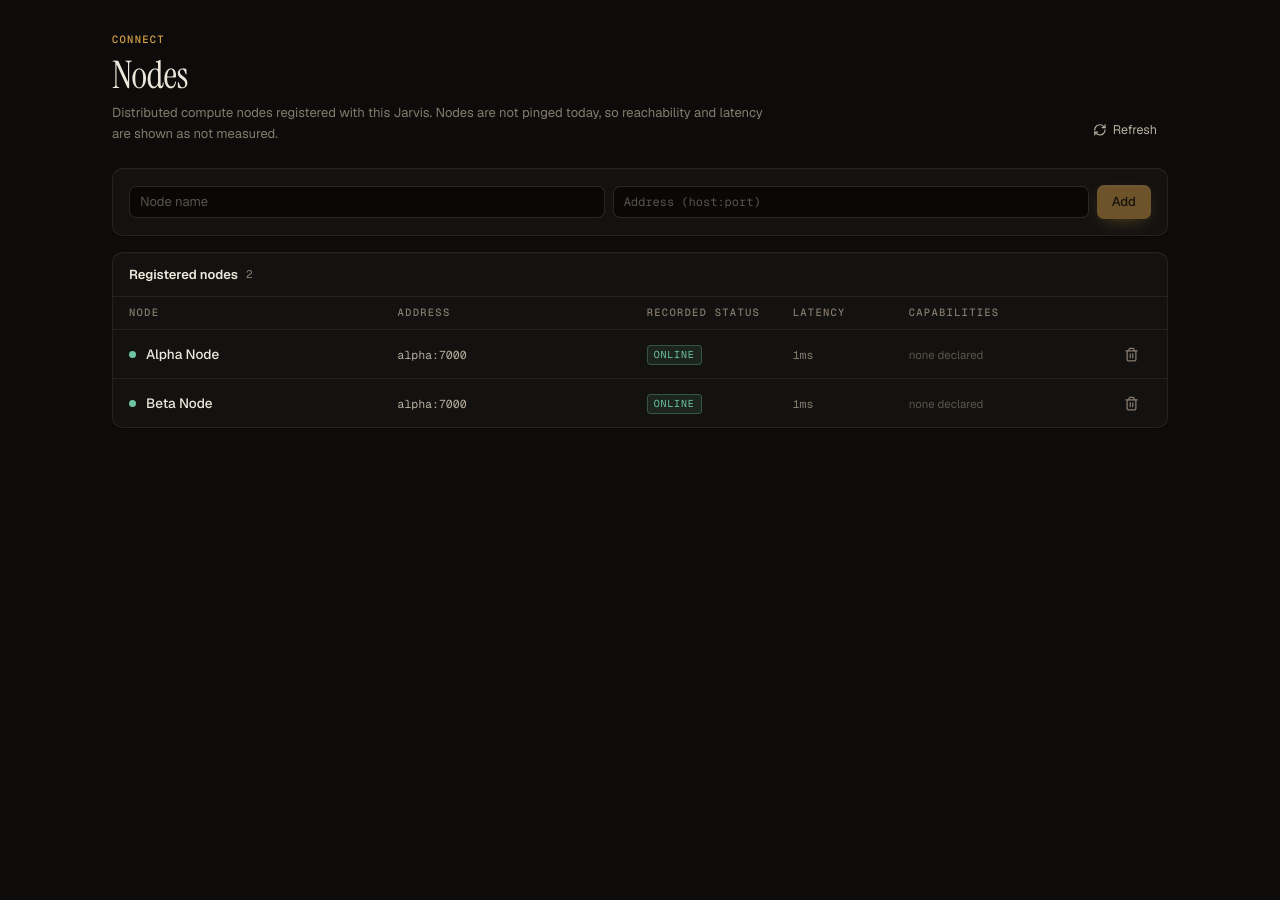
it: NodesPage removal coordination › holds confirmation, blocks repeated confirmation, and keeps other ids usable
Expected: the text "Alpha Node" is shown, [146,344,219,364]
Click the button named "Remove" in the row of "Alpha Node" at [1131, 354], box [1119,342,1143,366]
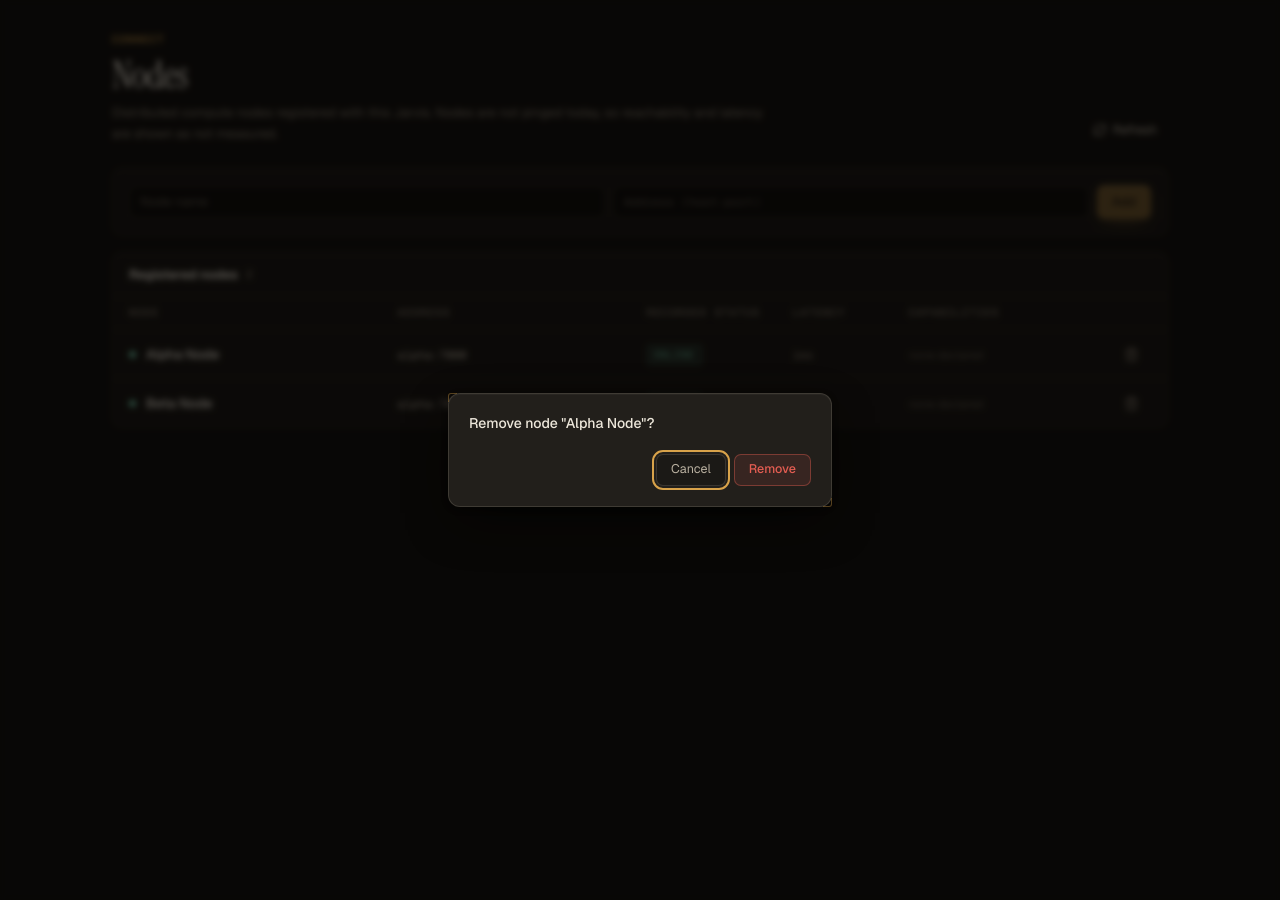
Click the button "Remove" at [772, 470], box [734,454,811,486]
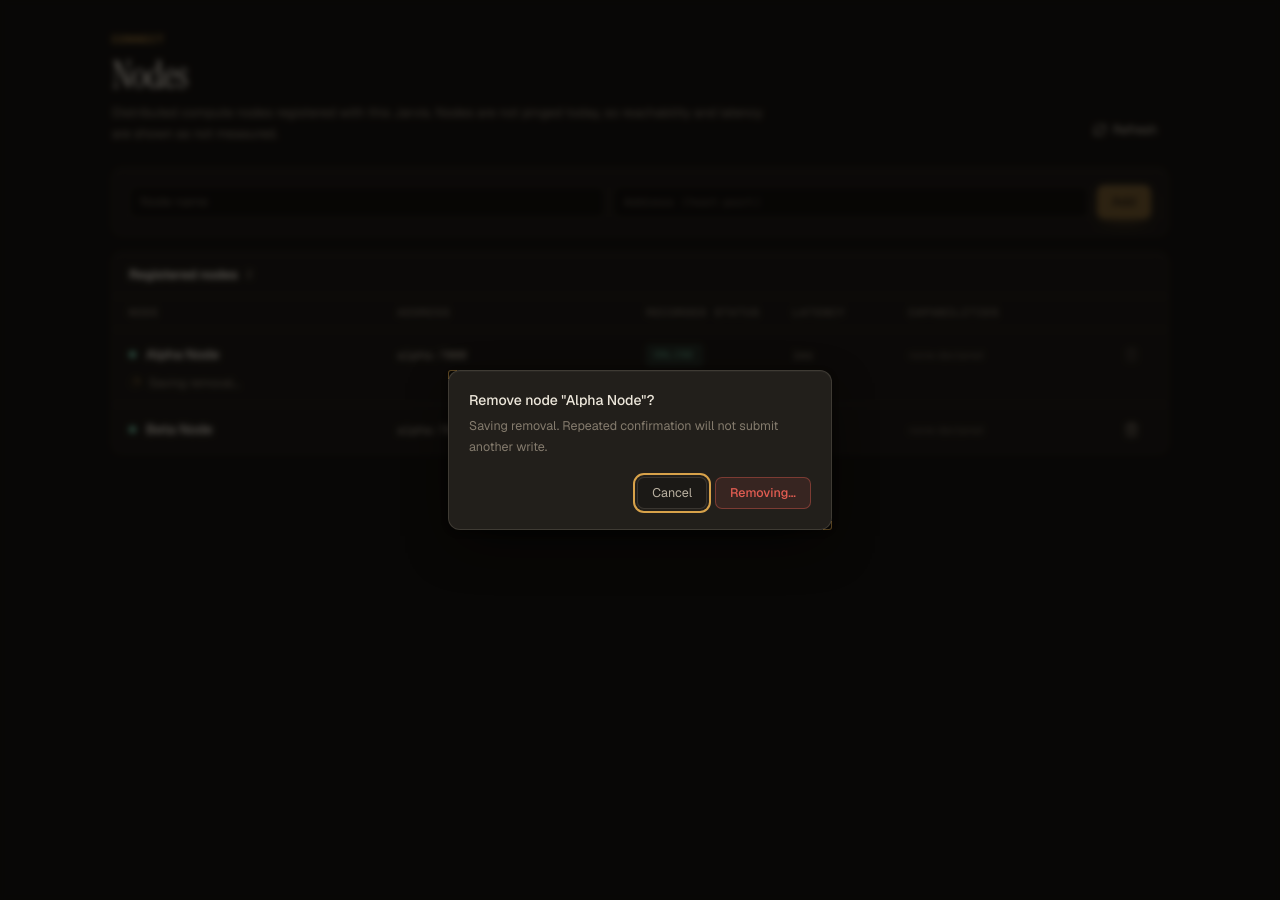
Result: the dialog shows "Saving removal" at [469,417,778,455]
Click the button "Removing…" at [763, 493], box [715,477,811,509]
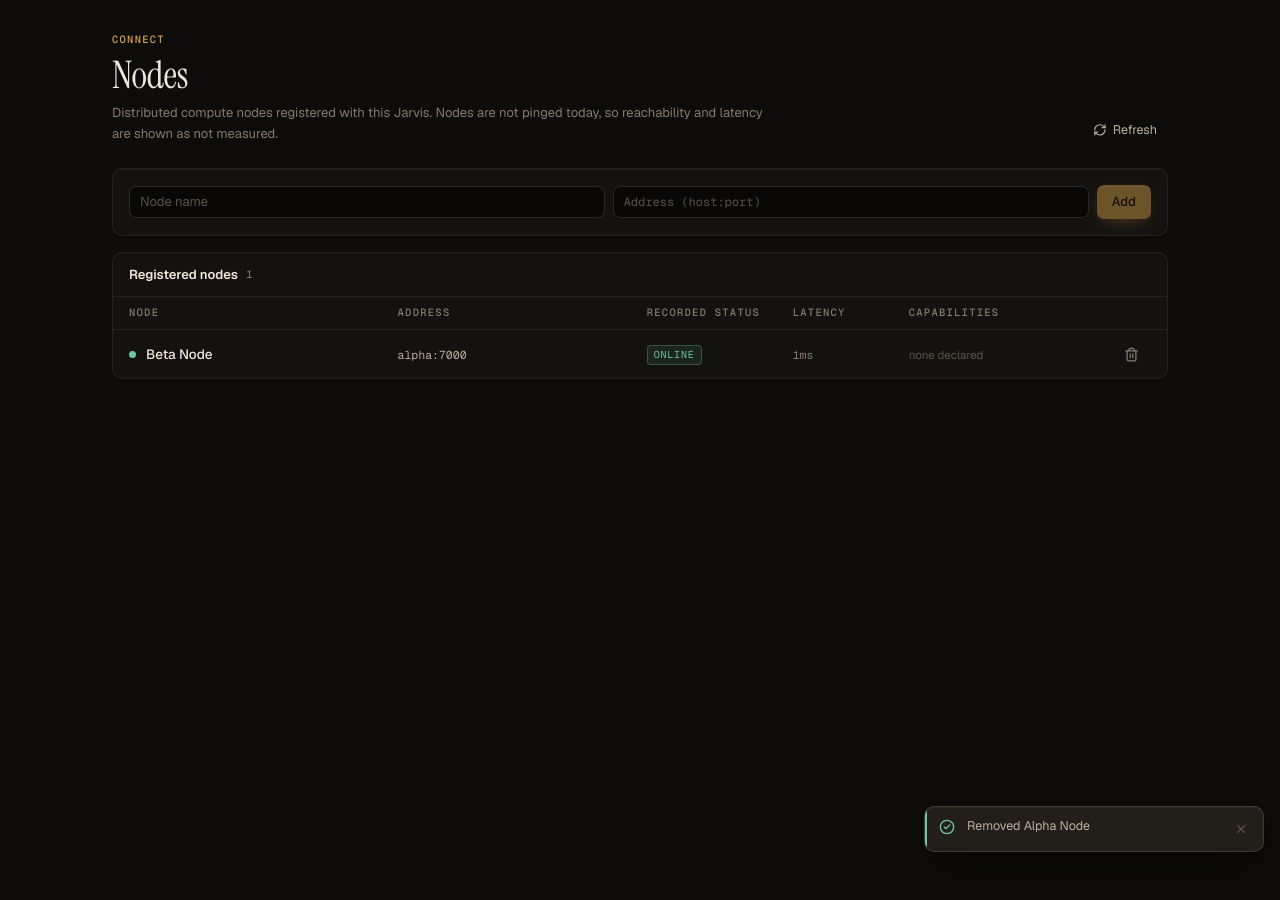
Result: the dialog is gone
Result: the text "Removed Alpha Node" is shown at [967,817,1090,834]
